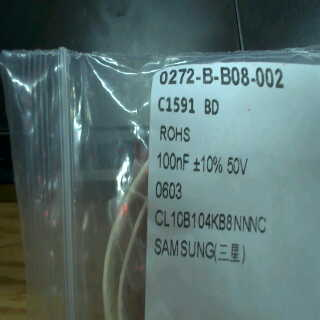100nF: (156, 149, 192, 173)
